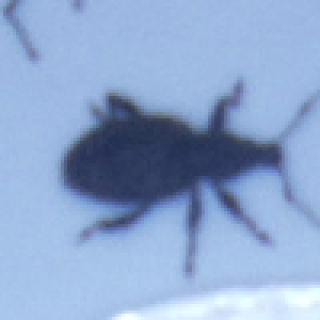bvw: (61, 78, 319, 276)
